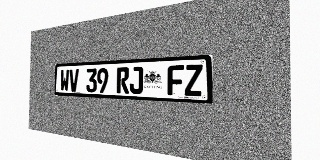3: (86, 68, 97, 92)
9: (97, 68, 108, 93)
F: (167, 65, 184, 96)
J: (129, 66, 143, 94)
R: (116, 67, 129, 94)
V: (69, 69, 79, 92)
W: (60, 69, 69, 91)
Z: (184, 64, 202, 96)
